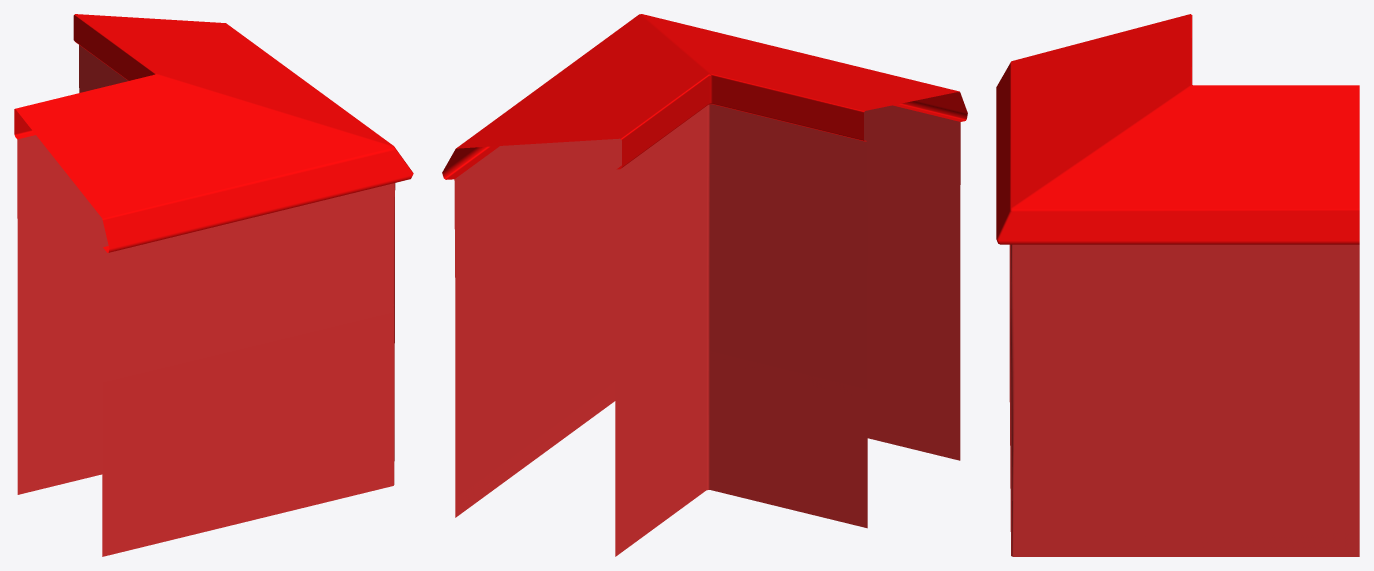
File: Battlements_Corner.fbx
3 views of the same model, side by side, from view 1: azimuth 30°, elevation 25°; view 2: azimuth 150°, elevation 25°; view 3: azimuth 270°, elevation 25° (orthographic). The views are drawn at different scales.
Parts seen in each view (by area): view 1: Battlements_Corner VC; view 2: Battlements_Corner VC; view 3: Battlements_Corner VC.
Part boxes in pixels (x1,y1,x2,y2): Battlements_Corner VC: [14, 14, 413, 556]; Battlements_Corner VC: [442, 14, 967, 556]; Battlements_Corner VC: [996, 14, 1359, 556].
Bounding box in the file's own units: 156 × 188 × 156.
